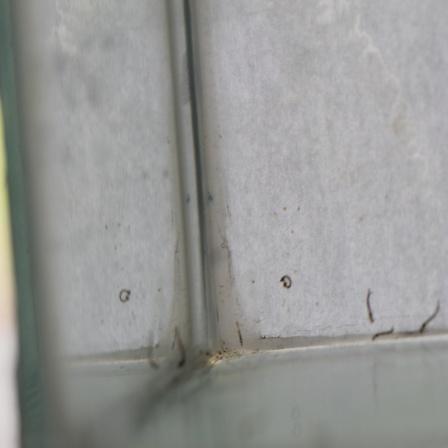Jentik-Nyamuk: (277, 269, 295, 295)
